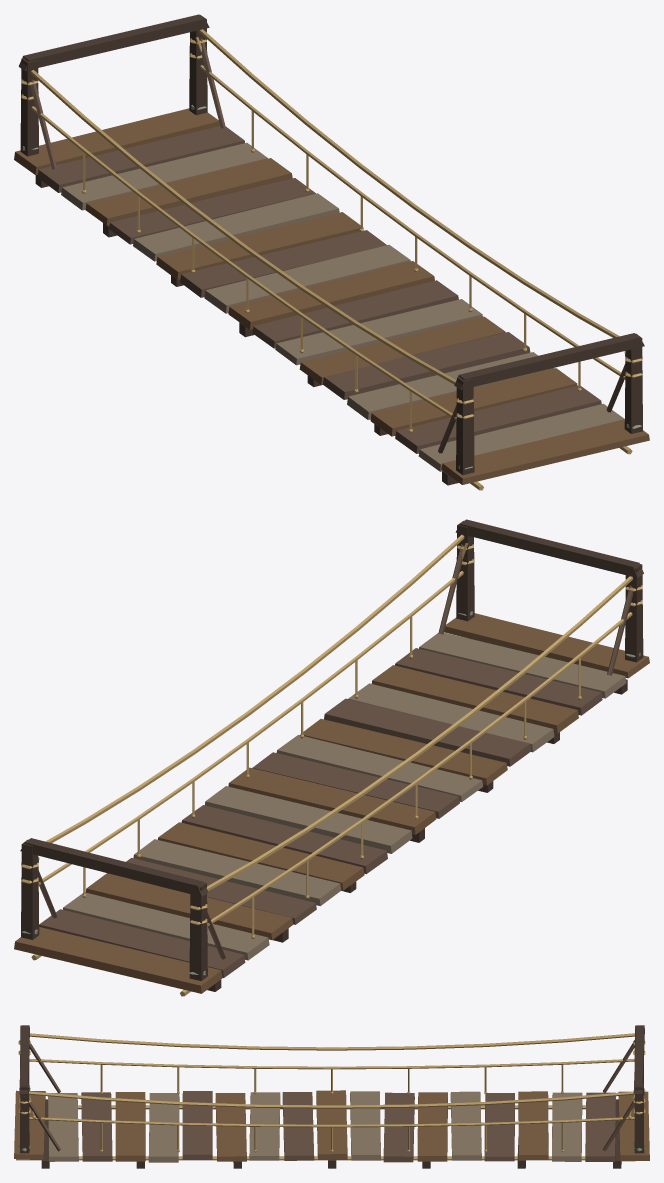
File: rope_bridge.glb
The picture shows the model from 3 angles, top to bottom: view 1: azimuth 30°, elevation 25°; view 2: azimuth 150°, elevation 25°; view 3: azimuth 270°, elevation 25°; orthographic projection. The views are drawn at different scales.
Visible parts, largest first — view 1: rope_bridge; view 2: rope_bridge; view 3: rope_bridge.
Boxes of the visible parts, left/top/right/bottom form: rope_bridge: left=14, top=14, right=649, bottom=490; rope_bridge: left=14, top=519, right=649, bottom=996; rope_bridge: left=14, top=1025, right=649, bottom=1168.
Bounding box in the file's own units: 2.4 × 1.42 × 10.
